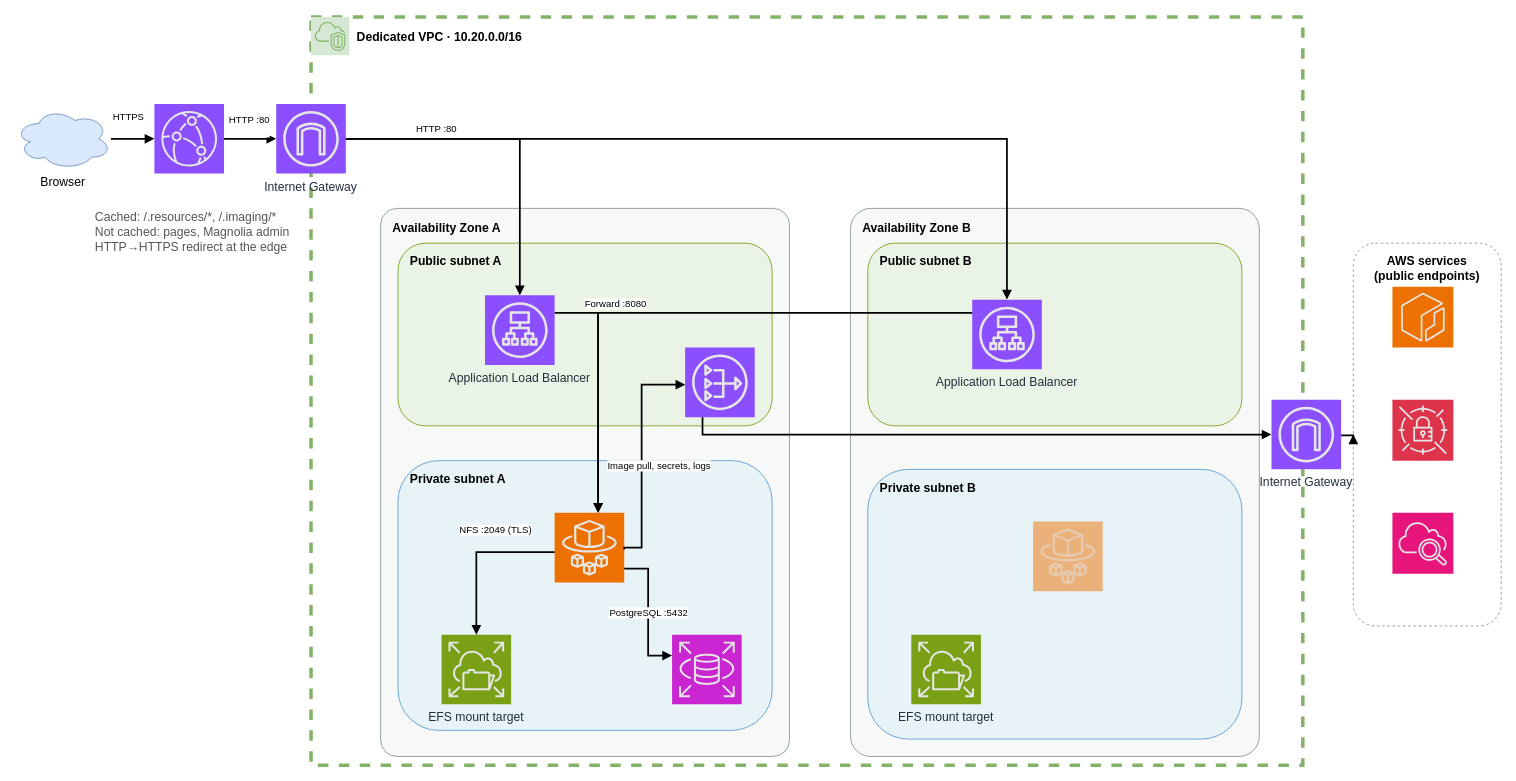
Some shapes in this 1516 by 781 pixel diagram are drawn without their labels. Here are the shapes that lost their labels. From the top down, the centre of each, then its label:
pixel 189 138: CloudFront
pixel 1422 317: ECR
pixel 719 382: NAT Gateway
pixel 1422 430: Secrets Manager
pixel 589 547: ECS Fargate task
pixel 1067 556: ECS Fargate task (other possible placement)
pixel 1422 543: CloudWatch Logs
pixel 706 669: RDS PostgreSQL
